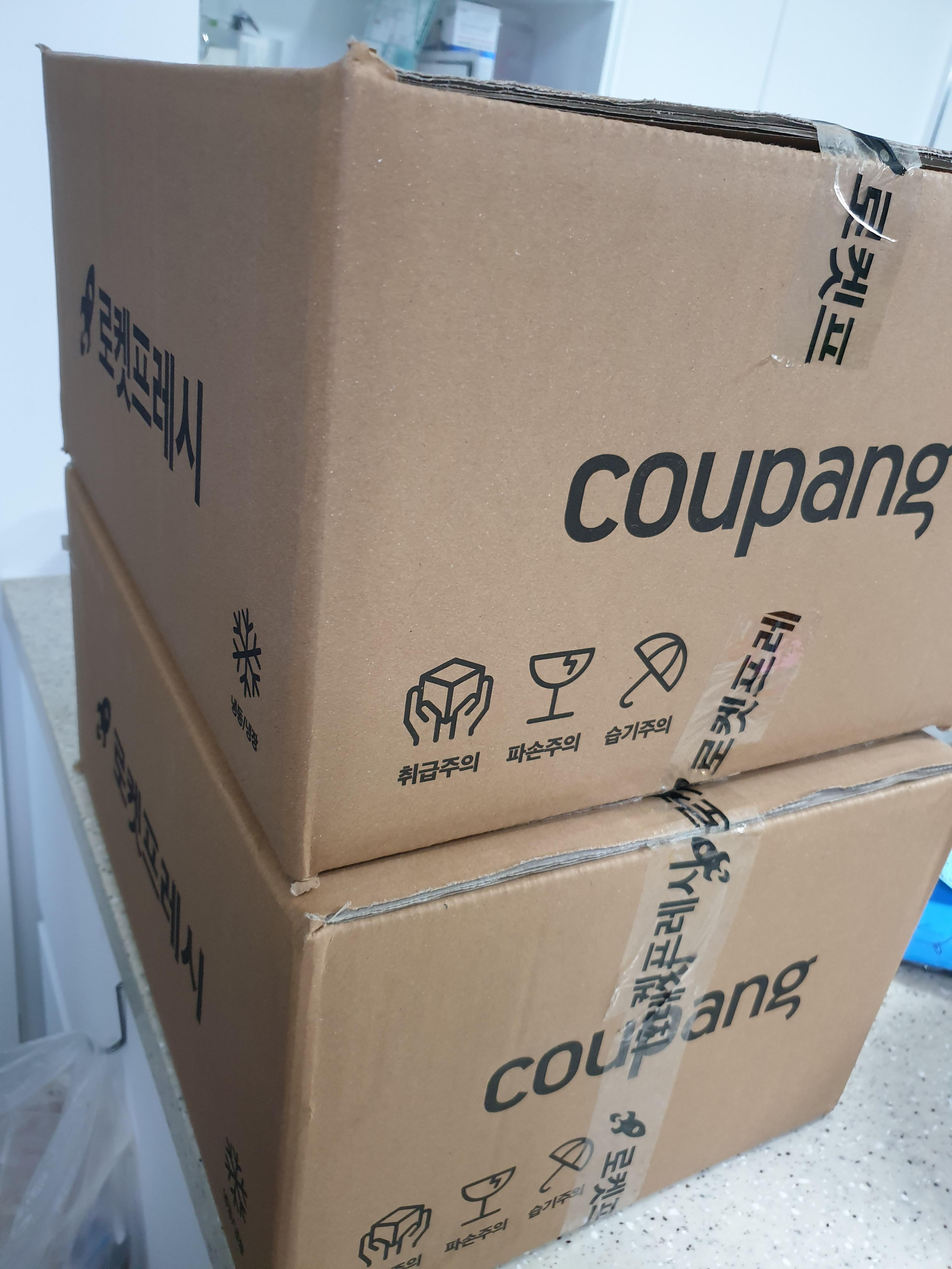undamaged: (17, 21, 950, 1267)
